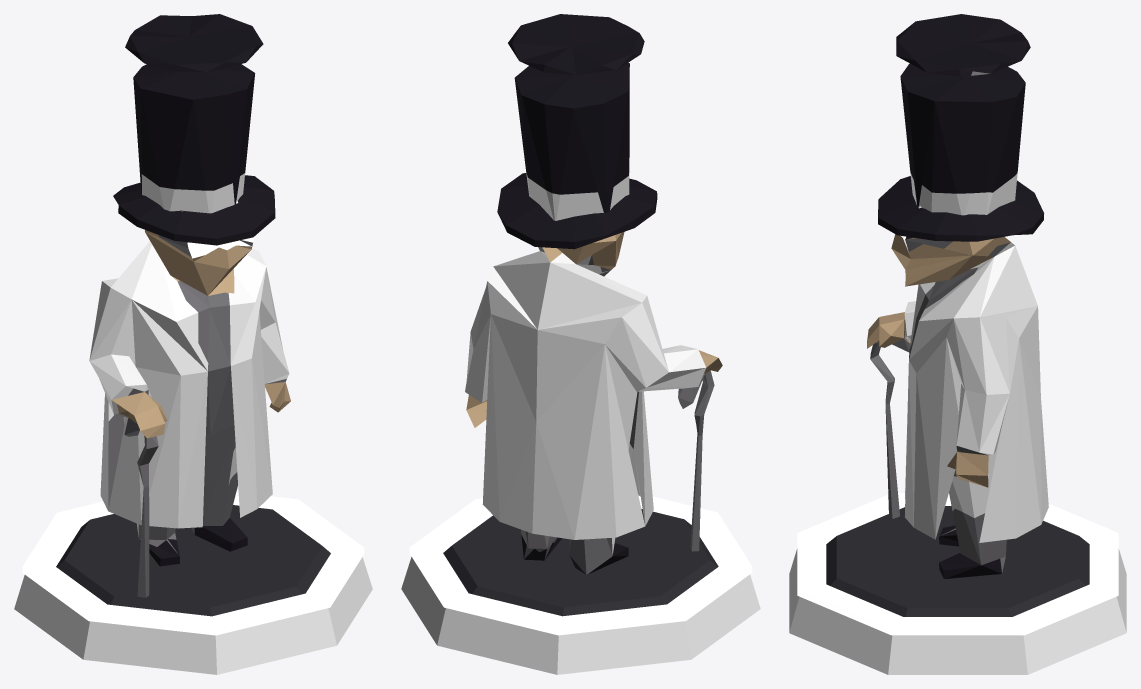
The model's file is technoborghesi.glb.
3 views of the same model, side by side, from view 1: azimuth 30°, elevation 25°; view 2: azimuth 150°, elevation 25°; view 3: azimuth 270°, elevation 25° (orthographic).
Parts seen in each view (by area): view 1: pedina_tecnoborghesi; view 2: pedina_tecnoborghesi; view 3: pedina_tecnoborghesi.
Boxes of the visible parts, x1,y1,x2,y2 form: pedina_tecnoborghesi: (14,14,372,674); pedina_tecnoborghesi: (401,14,760,674); pedina_tecnoborghesi: (789,14,1126,674).
Size of the model in its own units: 0.5913 by 1.09 by 0.5913.
